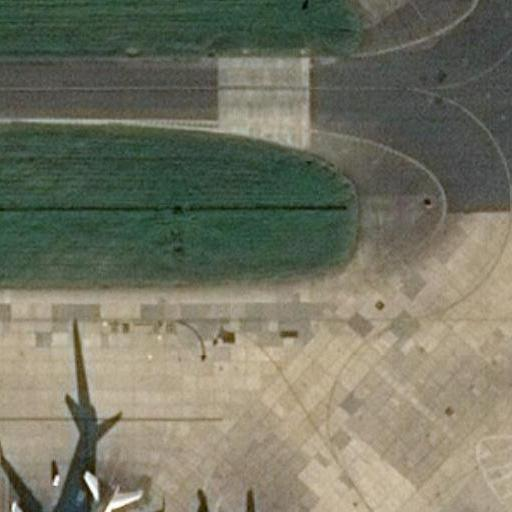Aircraft: (5, 462, 178, 512)
